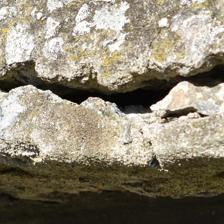Crack: (2, 24, 222, 96)
